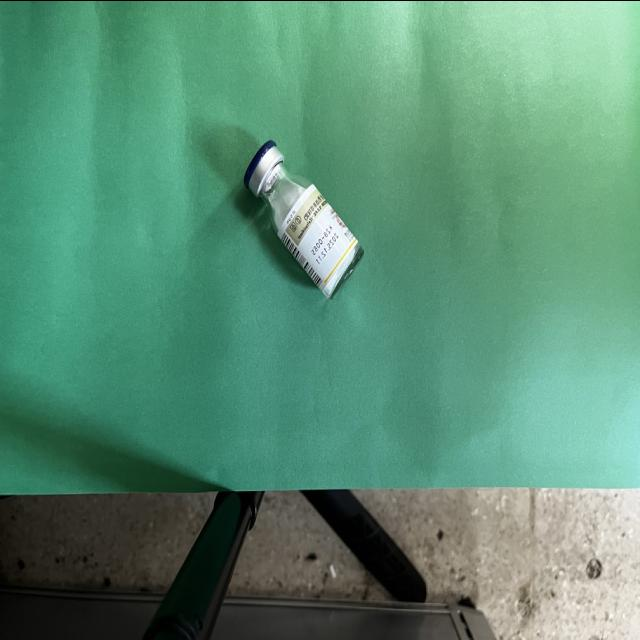Vials: (243, 139, 364, 298)
